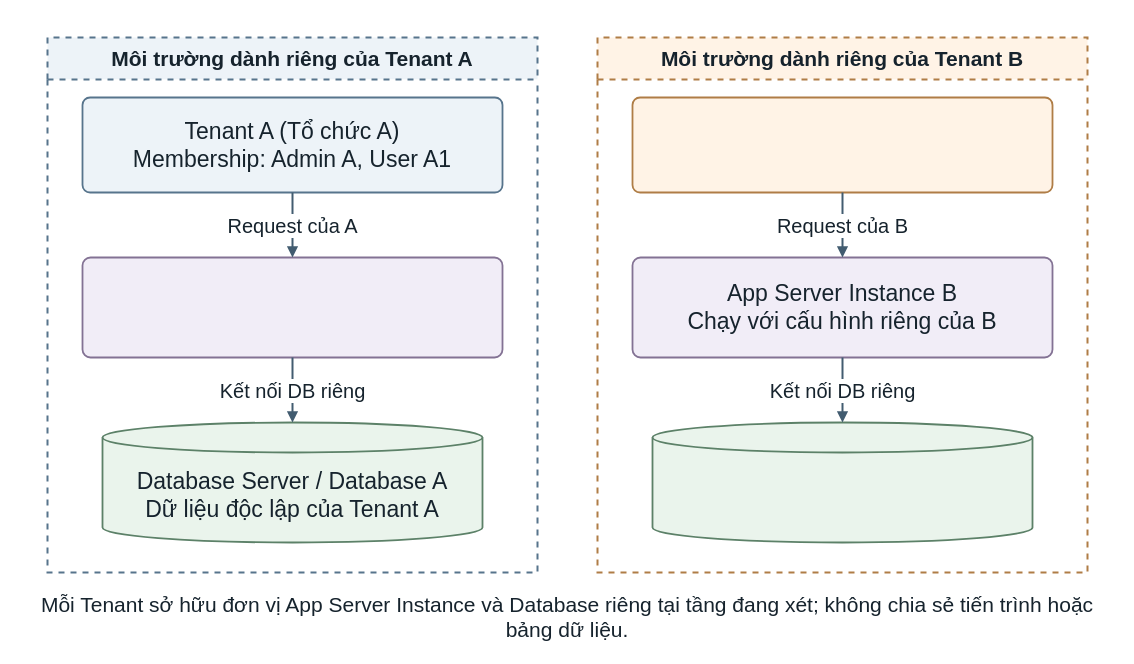
Image size: 1134x664. Some labels were removed from this diagram. The centre of each missing label's shape, as x and y in pixels:
App Server Instance A Chạy với cấu hình riêng của A: (292,307)
Database Server / Database B Dữ liệu độc lập của Tenant B: (842,482)
Tenant B (Tổ chức B) Membership: Admin B, User B1: (842,144)
